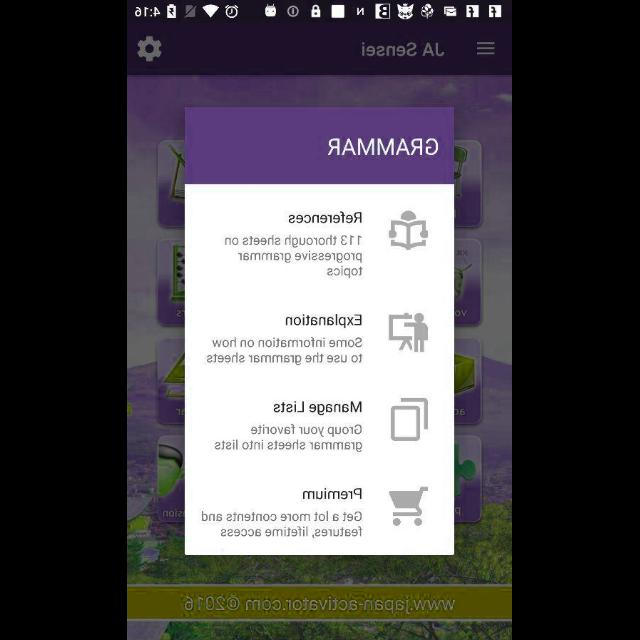icon: (389, 486, 428, 526), (392, 399, 428, 441), (138, 36, 162, 62), (478, 43, 494, 55)
image: (389, 211, 428, 251), (389, 313, 428, 351)
panel: (185, 107, 455, 555)
text: (225, 235, 362, 278), (185, 596, 455, 614), (208, 336, 362, 366), (202, 512, 362, 538), (215, 424, 362, 452), (329, 138, 438, 156), (274, 401, 362, 415), (362, 43, 446, 57), (286, 314, 362, 328), (290, 211, 362, 223), (304, 488, 362, 499)
uppertaskbar: (128, 1, 512, 23)
